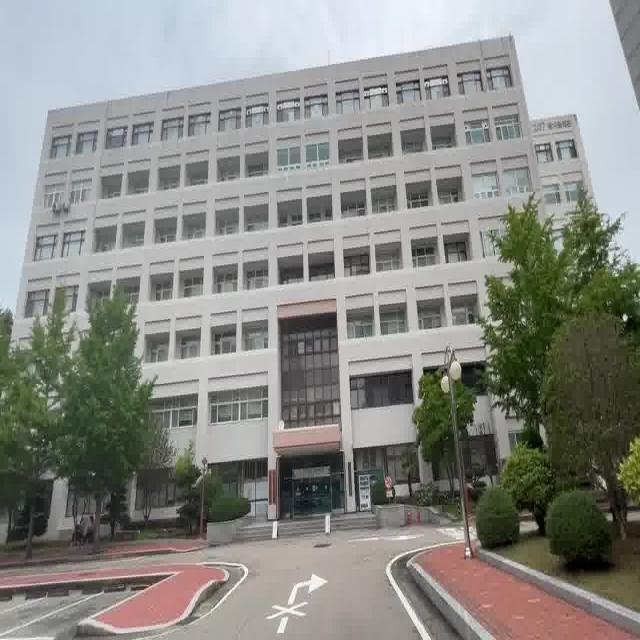building: (36, 56, 489, 309)
